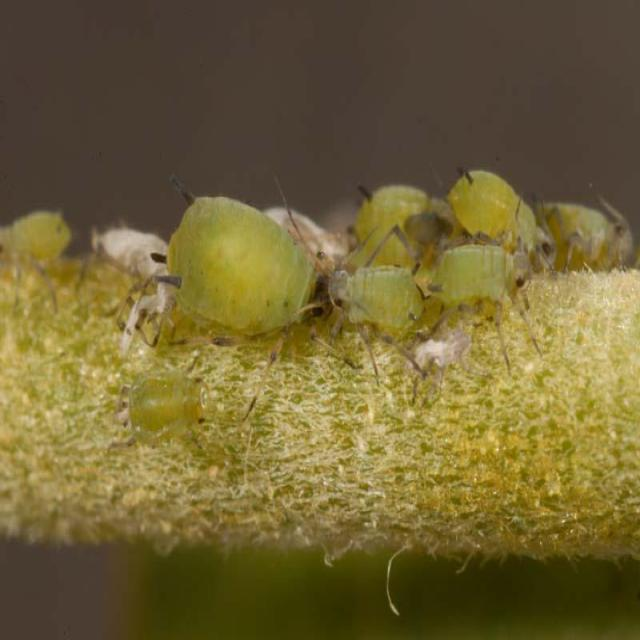Aphids: (155, 166, 329, 397), (324, 247, 434, 385), (439, 224, 542, 370), (445, 151, 559, 268)
